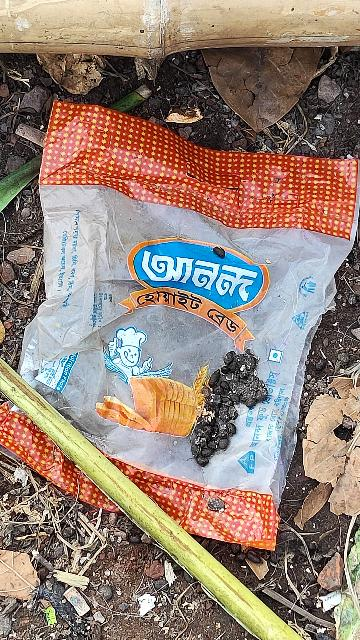packet: (0, 111, 360, 562)
